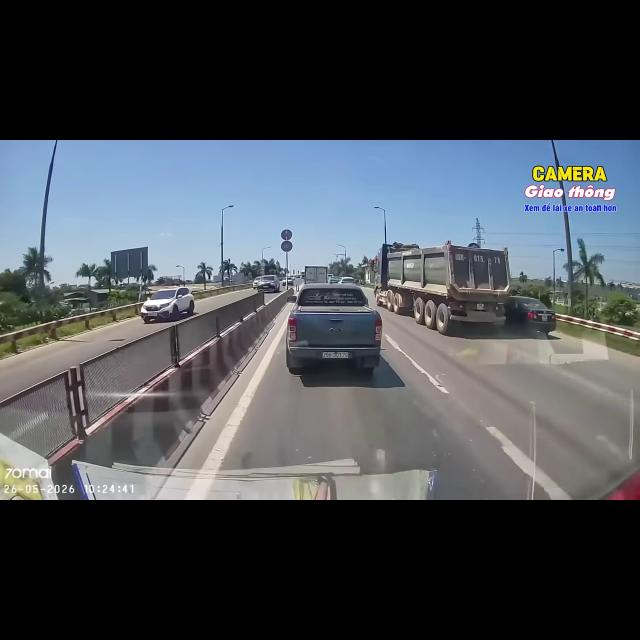car: (286, 284, 382, 374), (504, 296, 556, 334), (140, 287, 194, 322), (257, 275, 282, 292), (339, 277, 356, 284), (253, 277, 261, 289), (328, 277, 340, 283), (287, 277, 294, 285)
truck: (373, 241, 510, 334), (304, 266, 328, 283)
